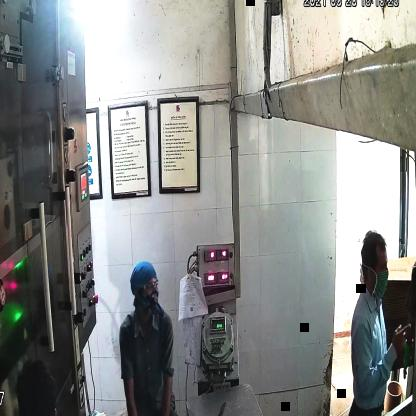goggles: (131, 278, 162, 299)
no_goggles: (363, 253, 391, 277)
